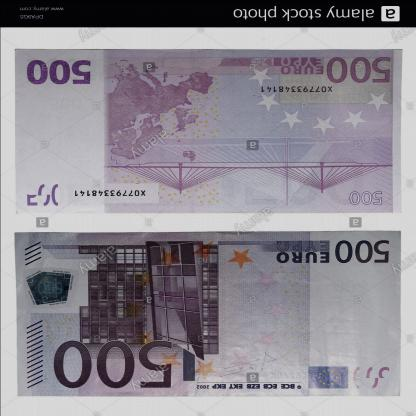euro_banknote: (16, 49, 403, 216), (15, 233, 402, 398)
